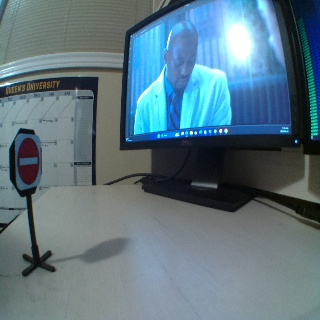sign_noentry: (16, 134, 40, 186)
